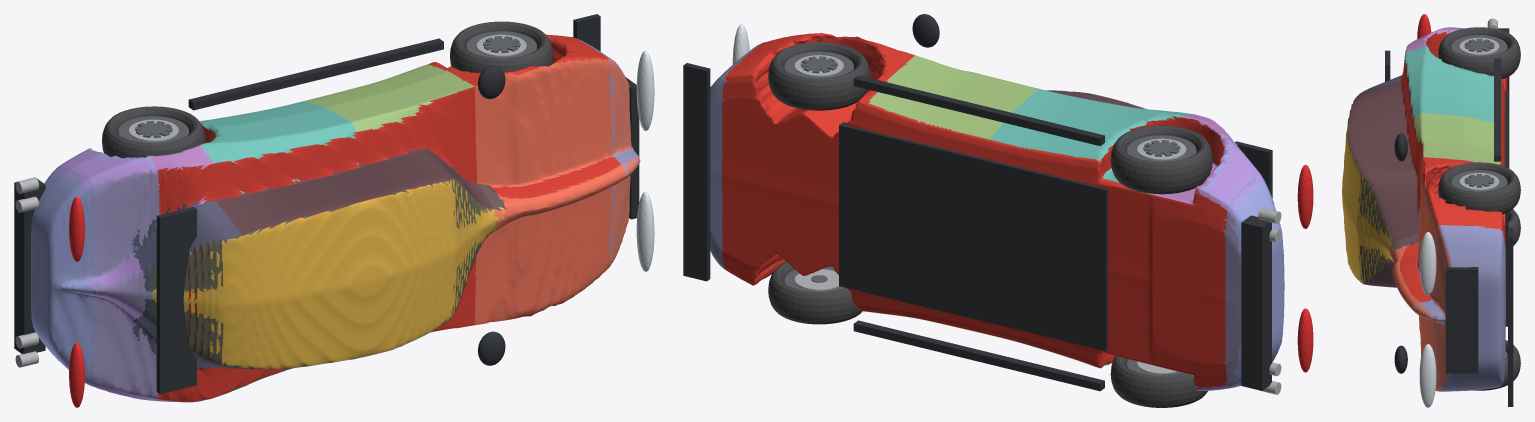
The model's file is modern_car_v2_reference.glb.
3 views of the same model, side by side, from view 1: azimuth 30°, elevation 25°; view 2: azimuth 150°, elevation 25°; view 3: azimuth 270°, elevation 25° (orthographic). The views are drawn at different scales.
Visible parts, largest first — view 1: panel_roof, panel_hood, body, panel_rear_hatch, greenhouse_glass, rear_spoiler, panel_rear_door_right, panel_rear_quarter_right, panel_front_door_right, side_skirt_R, rear_R_tyre, front_R_tyre (+14 smaller); view 2: body, underbody, panel_front_door_right, panel_rear_door_right, front_splitter, rear_diffuser, rear_R_tyre, front_R_tyre, panel_rear_hatch, side_skirt_L, side_skirt_R, front_L_tyre (+11 smaller); view 3: body, greenhouse_glass, panel_front_bumper, panel_rear_door_right, panel_roof, panel_hood, front_grille, panel_front_door_right, front_R_tyre, rear_R_tyre, front_splitter, headlamp_L (+15 smaller).
Part boxes in pixels (box(x1,y1,x2,y2)): panel_roof: box(149, 179, 505, 368); panel_hood: box(474, 58, 640, 325); body: box(158, 34, 620, 401); panel_rear_hatch: box(31, 149, 160, 400); greenhouse_glass: box(132, 148, 506, 369); rear_spoiler: box(156, 207, 196, 394); panel_rear_door_right: box(199, 101, 358, 193); panel_rear_quarter_right: box(52, 145, 241, 290); panel_front_door_right: box(304, 64, 474, 182); side_skirt_R: box(188, 38, 443, 110); rear_R_tyre: box(102, 106, 205, 157); front_R_tyre: box(450, 21, 553, 72); body: box(722, 33, 1227, 389); underbody: box(839, 122, 1107, 351); panel_front_door_right: box(869, 55, 1038, 139); panel_rear_door_right: box(990, 89, 1193, 182); front_splitter: box(683, 63, 710, 281); rear_diffuser: box(1241, 215, 1271, 390); rear_R_tyre: box(1110, 125, 1212, 194); front_R_tyre: box(768, 42, 870, 110); panel_rear_hatch: box(1199, 134, 1284, 390); side_skirt_L: box(853, 320, 1104, 391); side_skirt_R: box(853, 75, 1104, 145); front_L_tyre: box(768, 261, 862, 324); body: box(1348, 30, 1507, 391); greenhouse_glass: box(1348, 75, 1419, 287); panel_front_bumper: box(1412, 225, 1506, 391); panel_rear_door_right: box(1402, 46, 1493, 141); panel_roof: box(1342, 106, 1394, 283); panel_hood: box(1389, 158, 1451, 391); front_grille: box(1445, 266, 1478, 373); panel_front_door_right: box(1414, 112, 1500, 164); front_R_tyre: box(1438, 162, 1520, 214); rear_R_tyre: box(1438, 27, 1520, 78); front_splitter: box(1508, 227, 1513, 406); headlamp_L: box(1419, 344, 1436, 407).
Bounding box in the file's own units: 4.48 × 2.16 × 1.47.
